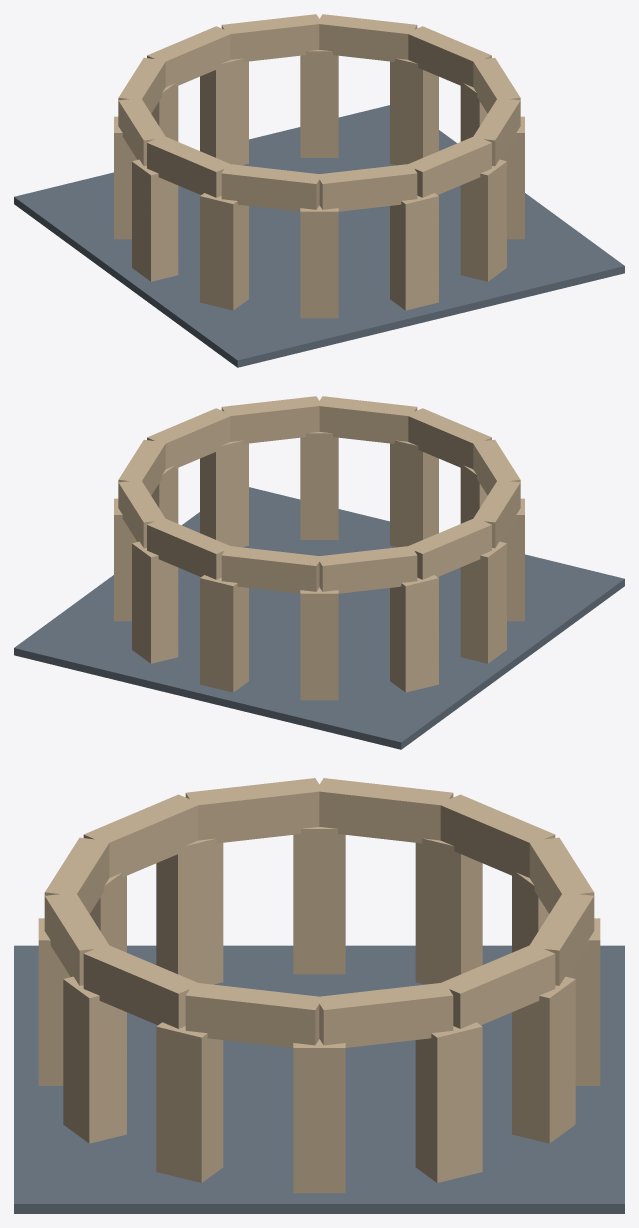
Rendered from sample.glb.
3 renders of one model, top to bottom at view 1: azimuth 30°, elevation 25°; view 2: azimuth 150°, elevation 25°; view 3: azimuth 270°, elevation 25°, orthographic. The views are drawn at different scales.
Visible parts, largest first — view 1: DISPLAY_plinth, upright_07, upright_09, upright_06, upright_10, upright_01, upright_03, upright_08, upright_02, lintel_08, lintel_07, lintel_02 (+13 smaller); view 2: DISPLAY_plinth, upright_03, upright_05, upright_02, upright_06, upright_09, upright_11, upright_04, upright_10, lintel_04, lintel_03, lintel_10 (+13 smaller); view 3: DISPLAY_plinth, upright_01, upright_11, upright_02, upright_10, upright_05, upright_07, upright_00, upright_06, lintel_00, lintel_11, lintel_05 (+13 smaller).
Boxes of the visible parts, <box> form: DISPLAY_plinth: <box>14,105,624,367</box>; upright_07: <box>200,193,248,310</box>; upright_09: <box>390,193,438,310</box>; upright_06: <box>132,159,178,281</box>; upright_10: <box>460,159,506,281</box>; upright_01: <box>390,58,438,165</box>; upright_03: <box>200,58,248,165</box>; upright_08: <box>300,205,338,318</box>; upright_02: <box>300,50,338,157</box>; lintel_08: <box>316,164,417,211</box>; lintel_07: <box>221,164,319,211</box>; lintel_02: <box>221,14,322,61</box>; DISPLAY_plinth: <box>14,487,624,749</box>; upright_03: <box>200,575,248,692</box>; upright_05: <box>390,575,438,692</box>; upright_02: <box>132,541,178,663</box>; upright_06: <box>460,541,506,663</box>; upright_09: <box>390,440,438,547</box>; upright_11: <box>200,440,248,547</box>; upright_04: <box>300,587,338,700</box>; upright_10: <box>300,432,338,539</box>; lintel_04: <box>316,546,417,593</box>; lintel_03: <box>221,546,319,593</box>; lintel_10: <box>221,396,322,443</box>; DISPLAY_plinth: <box>14,945,624,1213</box>; upright_01: <box>415,1022,482,1182</box>; upright_11: <box>156,1022,223,1182</box>; upright_02: <box>512,976,575,1143</box>; upright_10: <box>63,976,126,1143</box>; upright_05: <box>415,838,482,984</box>; upright_07: <box>156,838,223,984</box>; upright_00: <box>293,1039,345,1193</box>; upright_06: <box>293,827,345,974</box>; lintel_00: <box>316,982,453,1047</box>; lintel_11: <box>185,983,323,1047</box>; lintel_05: <box>317,778,453,843</box>.
Size of the model in its own units: 9.9 by 3.41 by 9.9.
